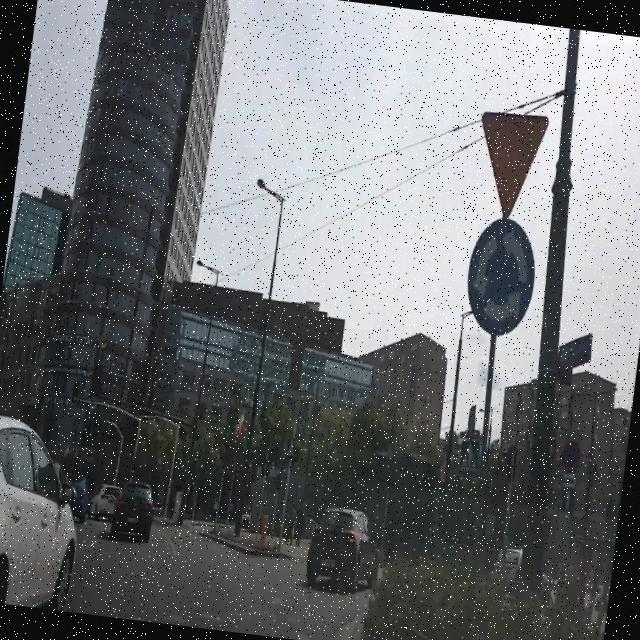Ustap pierwszenstwa: (469, 110, 548, 220)
Zakaz zatrzymywania sie: (559, 440, 582, 472)
